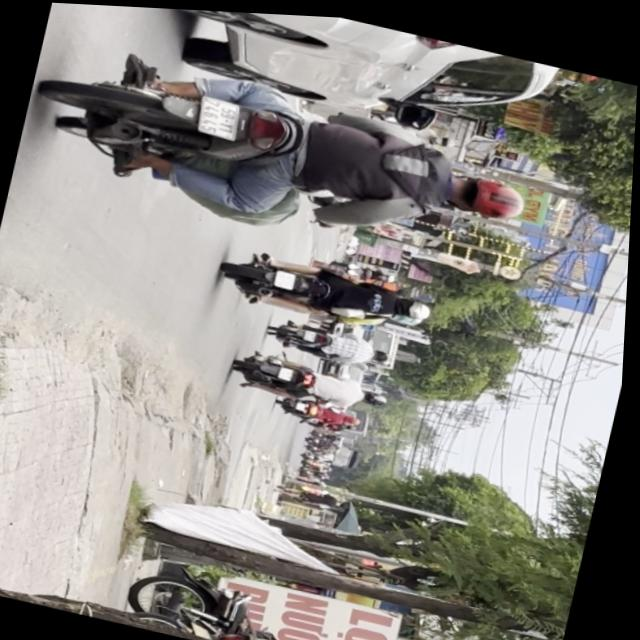helmet: (448, 162, 533, 220), (402, 291, 438, 315)
licenseplate: (26, 25, 551, 274), (219, 237, 445, 339)
nohelmet: (198, 92, 245, 136), (276, 265, 299, 285)
